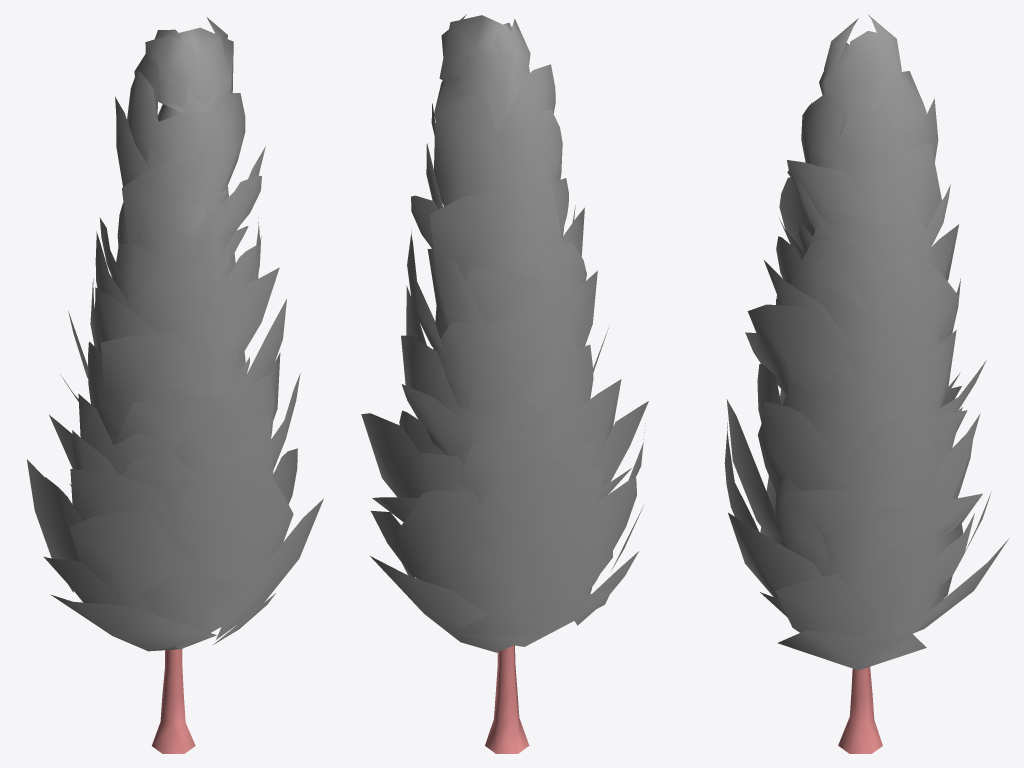
File: S_Envi_Foliage_Cypress_01a.gltf
3 views of the same model, side by side, from view 1: azimuth 30°, elevation 25°; view 2: azimuth 150°, elevation 25°; view 3: azimuth 270°, elevation 25° (orthographic). The views are drawn at different scales.
Parts seen in each view (by area): view 1: S_Envi_Foliage_Cypress_01a; view 2: S_Envi_Foliage_Cypress_01a; view 3: S_Envi_Foliage_Cypress_01a.
Part boxes in pixels (box(x1,y1,x2,y2)): S_Envi_Foliage_Cypress_01a: box(27, 17, 323, 753); S_Envi_Foliage_Cypress_01a: box(361, 14, 648, 753); S_Envi_Foliage_Cypress_01a: box(724, 15, 1008, 753).
Bounding box in the file's own units: 2.27 × 5.94 × 2.31.
